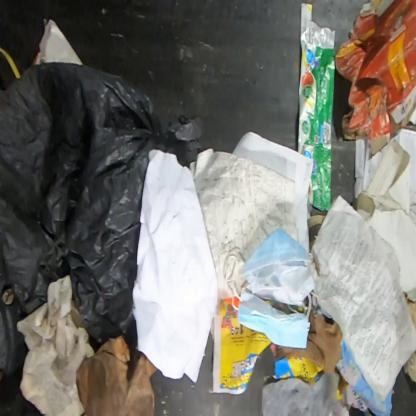cardboard: (334, 0, 415, 157)
soft_plastic: (0, 60, 203, 376), (298, 3, 336, 212)
